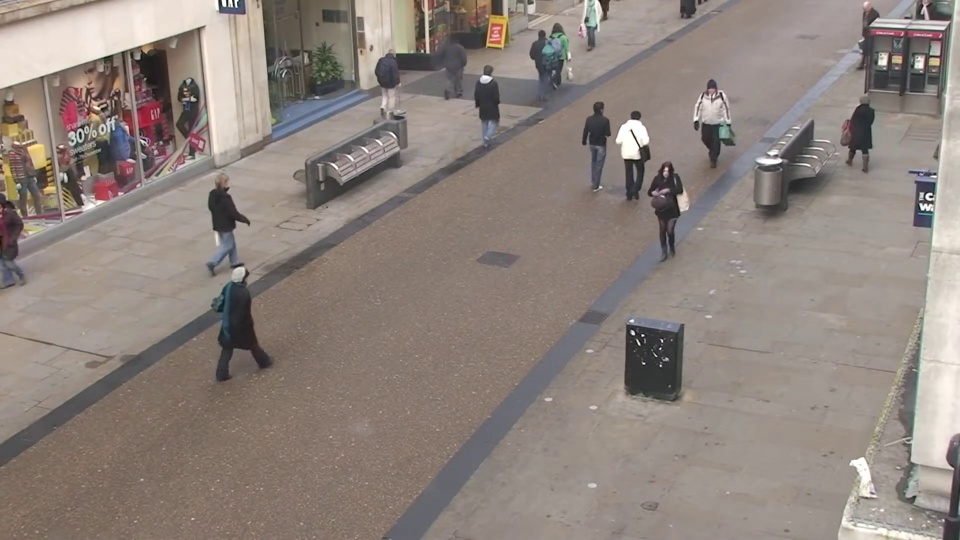pedestrian: (234, 254, 284, 385), (216, 163, 257, 270), (648, 160, 684, 269), (839, 88, 877, 179), (624, 103, 654, 196), (588, 97, 617, 188), (694, 80, 724, 167), (481, 61, 509, 141), (841, 2, 872, 72), (380, 43, 407, 118), (444, 27, 469, 98), (533, 26, 557, 97), (549, 18, 573, 86)
